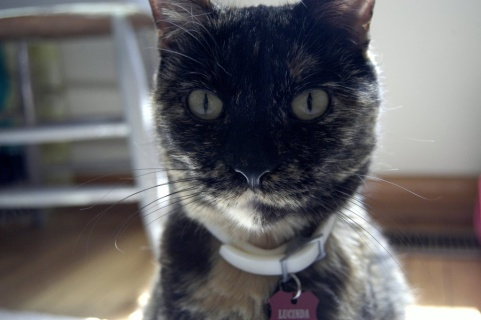Cat: (63, 0, 442, 319)
